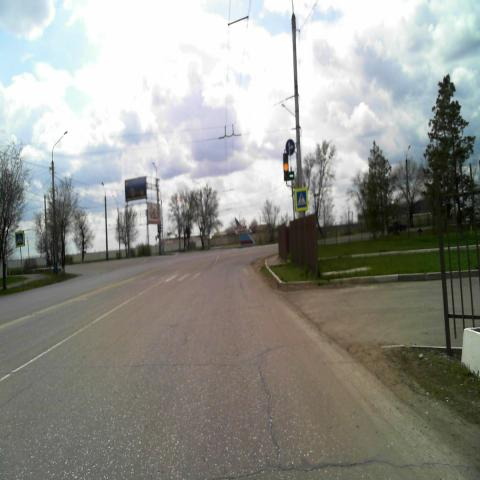4_1_4: (286, 138, 294, 156)
5_19_1: (294, 187, 308, 211), (14, 230, 24, 246)
